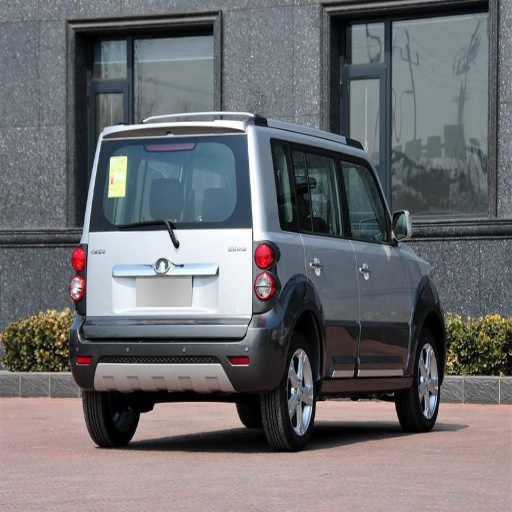back_bumper: (72, 304, 283, 391)
back_right_door: (289, 141, 358, 378)
trunk: (86, 230, 258, 337)
